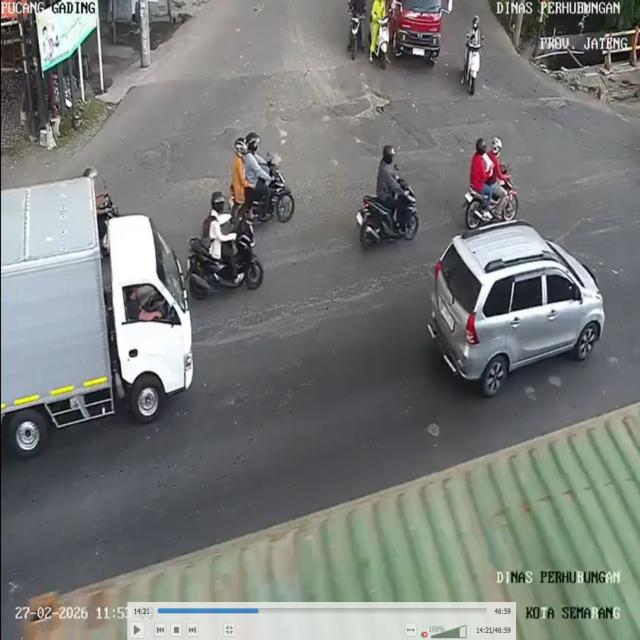motorcycle: (182, 234, 267, 300), (227, 172, 300, 232), (355, 189, 422, 253), (463, 181, 523, 228), (373, 20, 396, 70), (465, 42, 485, 96), (347, 16, 366, 64)
person: (205, 189, 233, 265), (375, 143, 405, 204), (246, 133, 271, 191), (466, 138, 490, 190), (488, 133, 506, 188), (232, 136, 247, 196), (466, 14, 487, 51), (370, 1, 390, 30), (346, 0, 368, 26)
rider_region: (187, 190, 266, 298), (354, 144, 421, 250), (229, 131, 296, 230), (463, 135, 520, 228), (462, 12, 486, 96), (369, 0, 394, 69), (344, 1, 368, 64)
